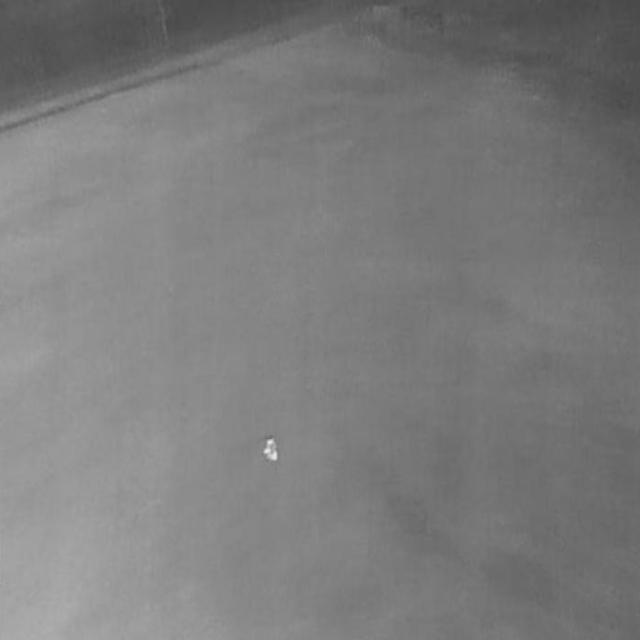person: (263, 435, 279, 462)
